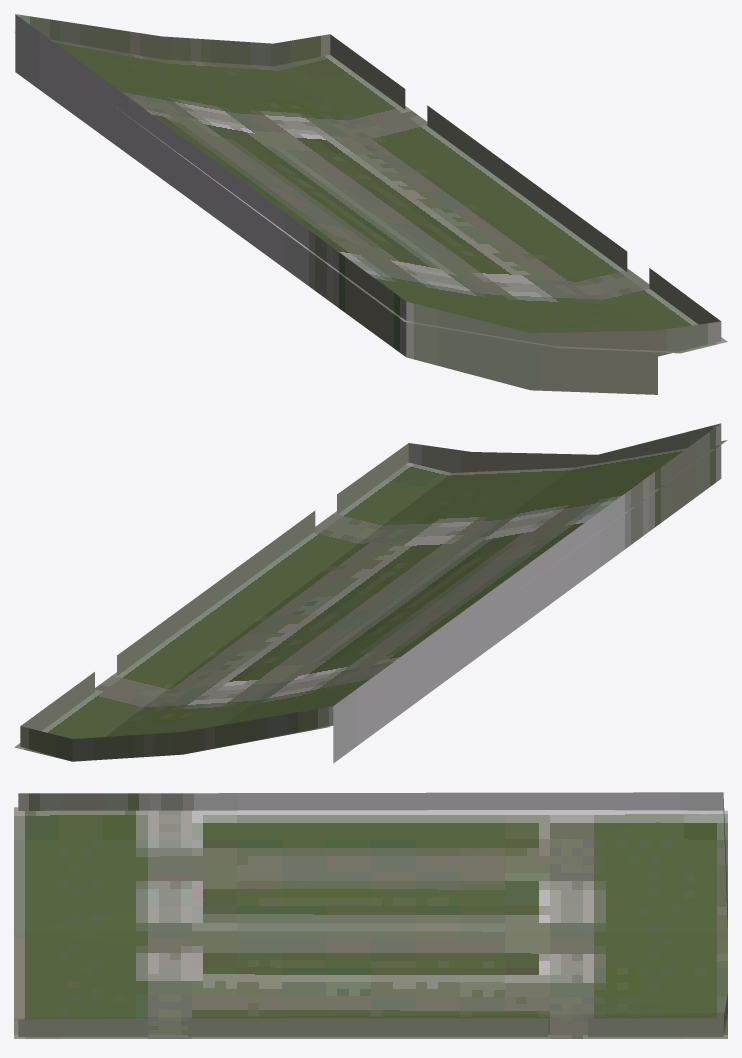
Rendered from lodmemorial.obj.
3 views of the same model, one above another, from view 1: azimuth 30°, elevation 25°; view 2: azimuth 150°, elevation 25°; view 3: azimuth 270°, elevation 25° (orthographic). The views are drawn at different scales.
Visible parts, largest first — view 1: LODmemorial; view 2: LODmemorial; view 3: LODmemorial.
Part boxes in pixels (x1,y1,x2,y2): LODmemorial: (14,14,727,394); LODmemorial: (14,423,727,763); LODmemorial: (14,792,727,1038).
Bounding box in the file's own units: 42.39 × 19.53 × 89.86.
Materials: 1 (1 with a texture image).
